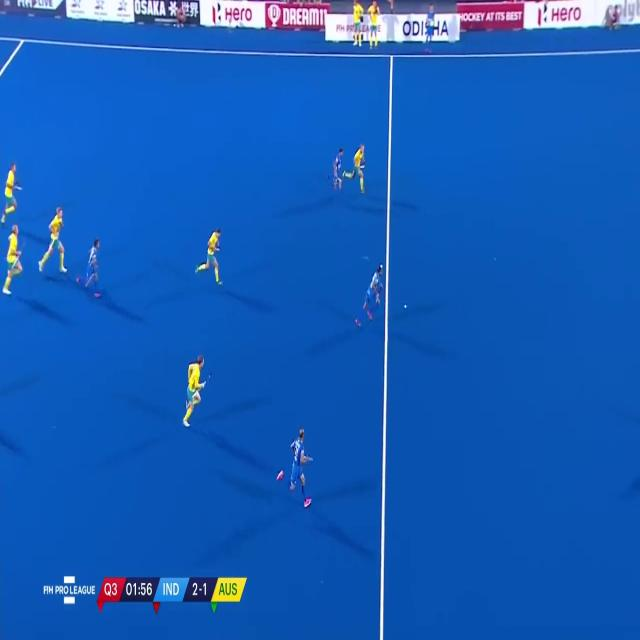ball: (402, 302, 408, 310)
